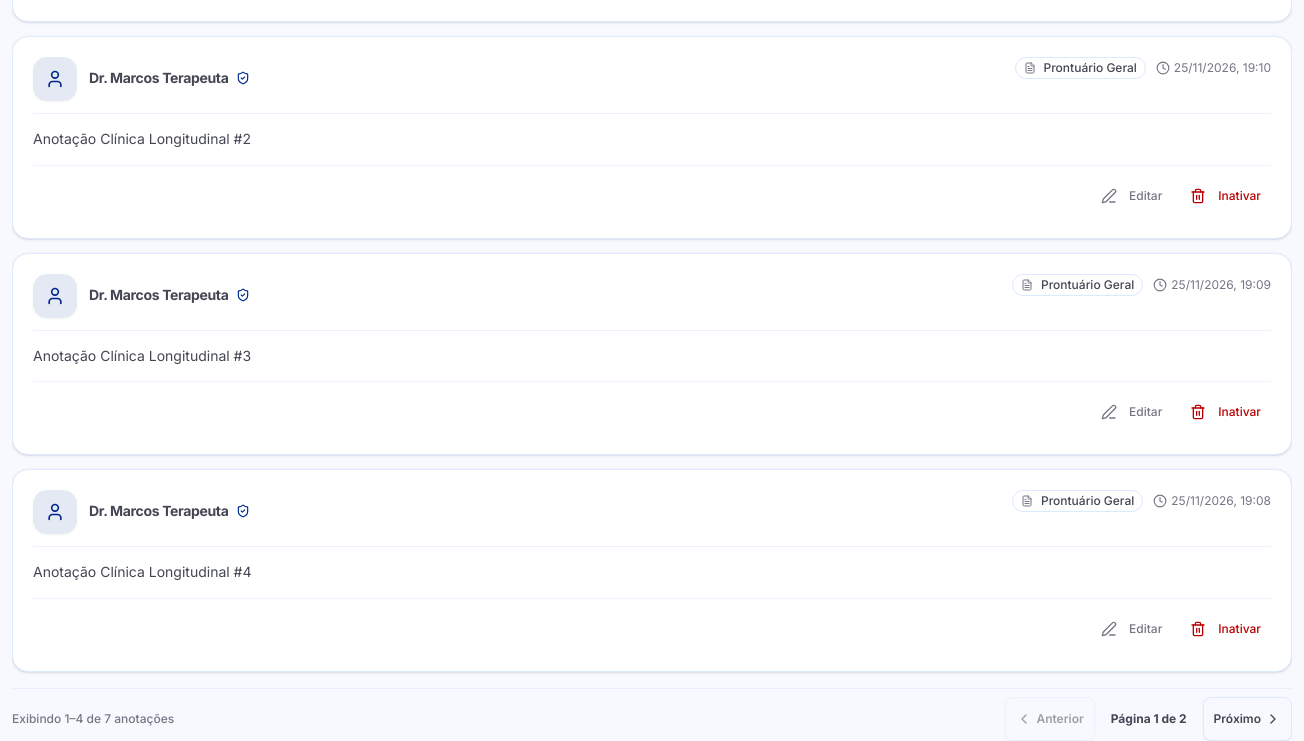
GerenciadorAnotacoesProntuario e Componentes Modulares (Sprint 12) › 7. Paginação Estrita de 4 Anotações por Página › deve exibir exatamente 4 anotações na página 1 quando existirem 7 anotações e navegar para a página 2 exibindo as 3 restantes
(page scrolled)
Expected: the text with test id "indicador-itens-paginacao" reads "Exibindo 1–4 de 7 anotações", [12,711,174,727]
Expected: the text with test id "indicador-pagina-atual" reads "Página 1 de 2", [1111,711,1187,726]
Note: Avança para a página 2
Click the button with test id "botao-pagina-proxima" at (1247,719), box [1203,697,1292,740]
(page scrolled)
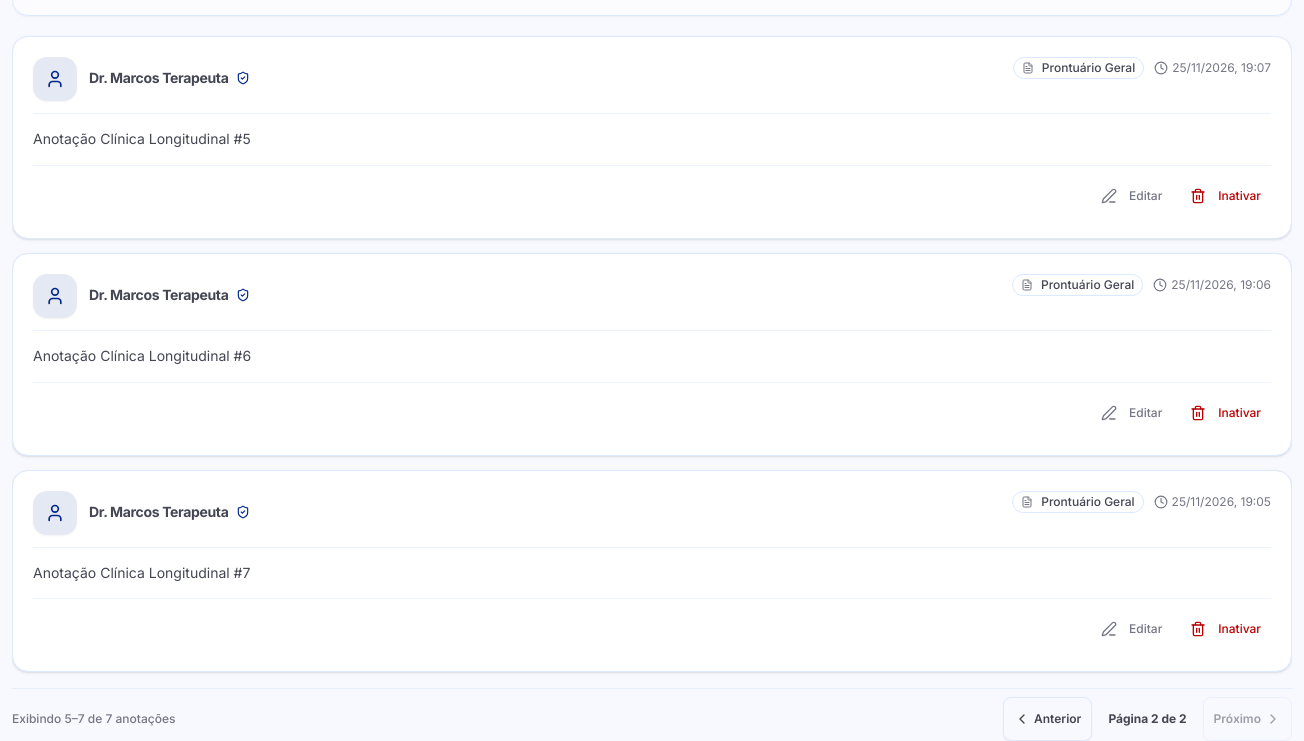
Expected: the text with test id "indicador-itens-paginacao" reads "Exibindo 5–7 de 7 anotações", [12,711,176,727]
Expected: the text with test id "indicador-pagina-atual" reads "Página 2 de 2", [1108,711,1187,726]
Expected: the element with test id "card-anotacao-nota-pag-5" is shown, [12,36,1292,239]
